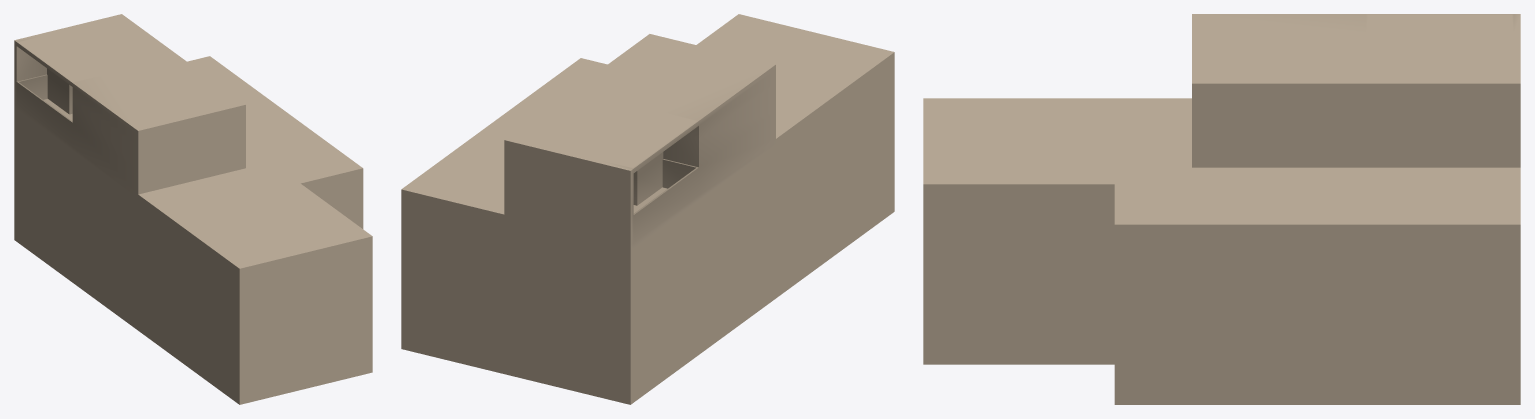
The model's file is massing.glb.
3 renders of one model, left to right at view 1: azimuth 30°, elevation 25°; view 2: azimuth 150°, elevation 25°; view 3: azimuth 270°, elevation 25°, orthographic. The views are drawn at different scales.
Visible parts, largest first — view 1: building/exterior; view 2: building/exterior; view 3: building/exterior.
Boxes of the visible parts, x1,y1,x2,y2 form: building/exterior: (14, 14, 372, 404); building/exterior: (401, 14, 894, 404); building/exterior: (923, 14, 1520, 404).
Size of the model in its own units: 9.02 by 8.8 by 18.
